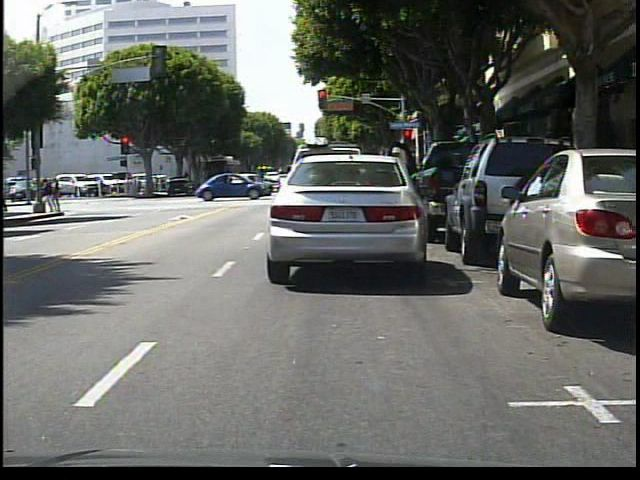person: (44, 179, 68, 216)
